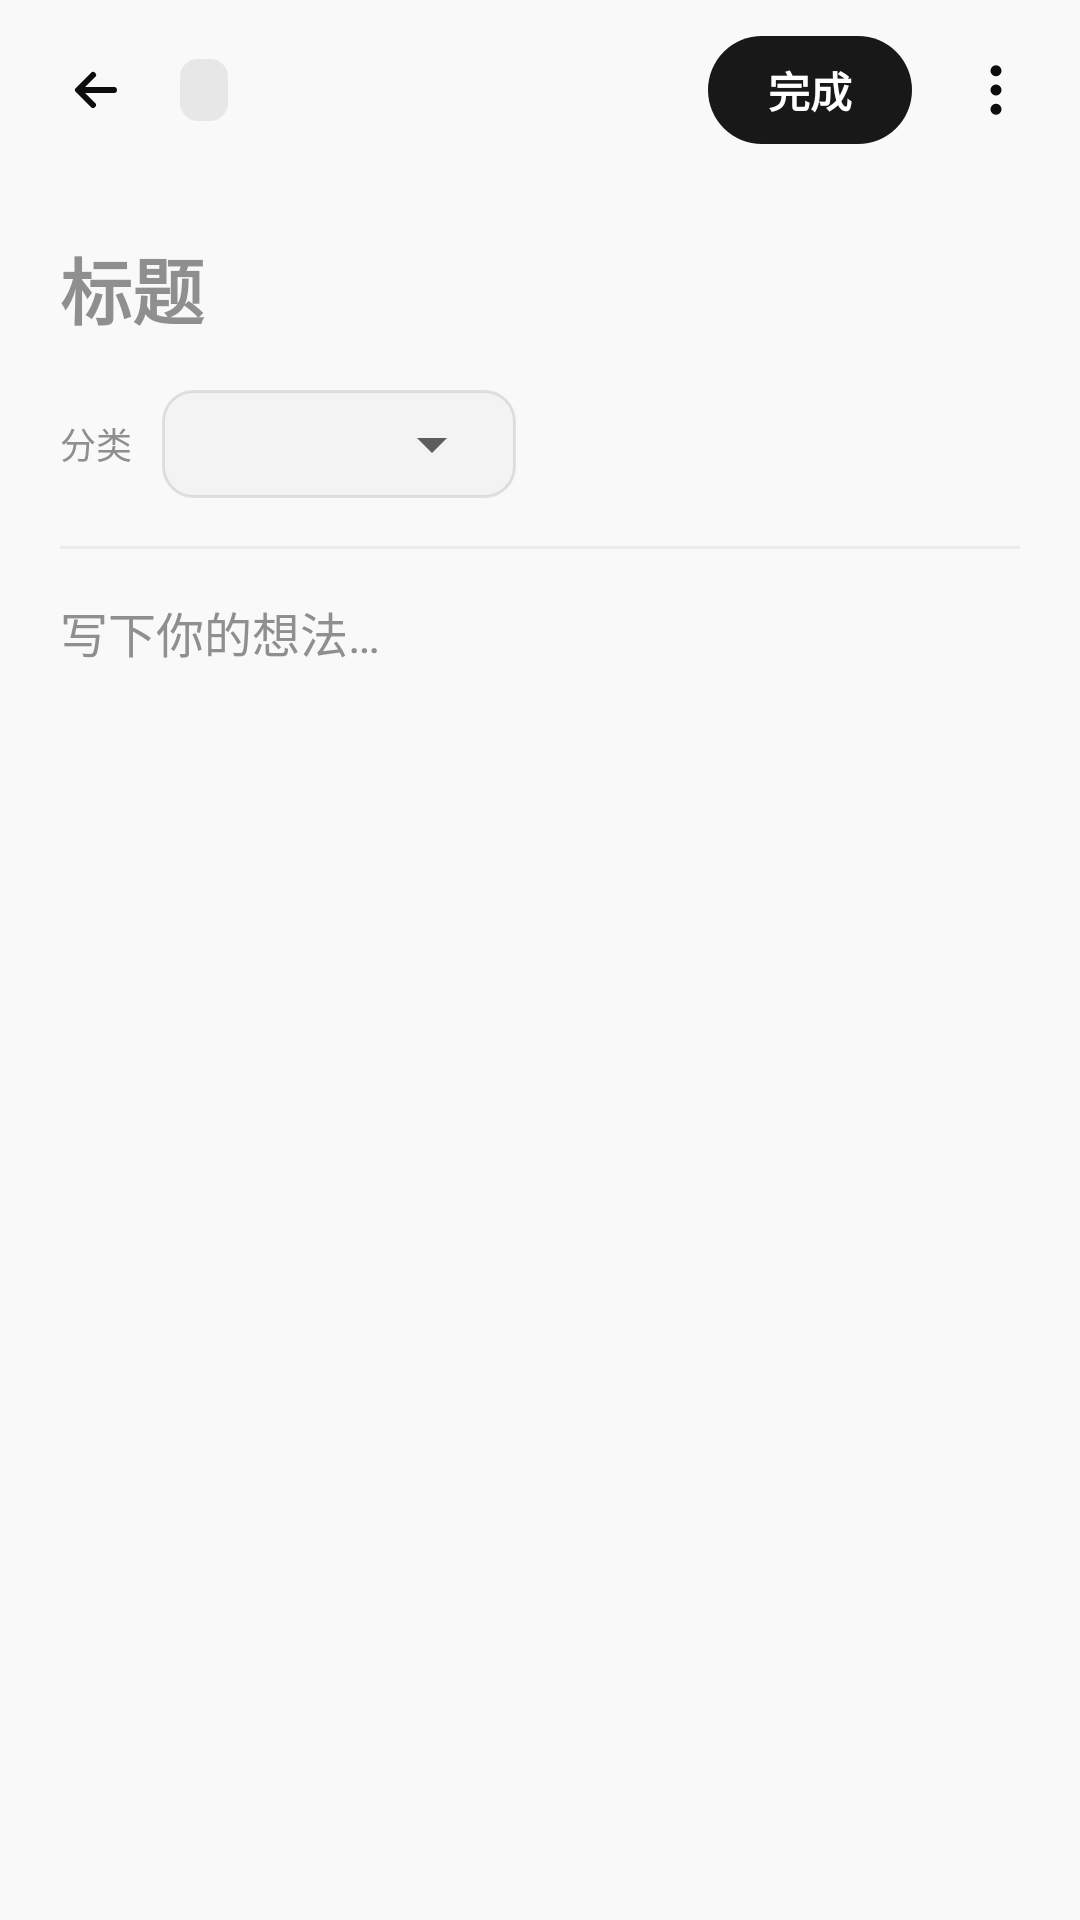

Point at icon controls on the screen. Image size 1080px x 1920px, points as point (x, y).
更多操作: point (996, 90)
返回笔记列表: point (96, 89)
